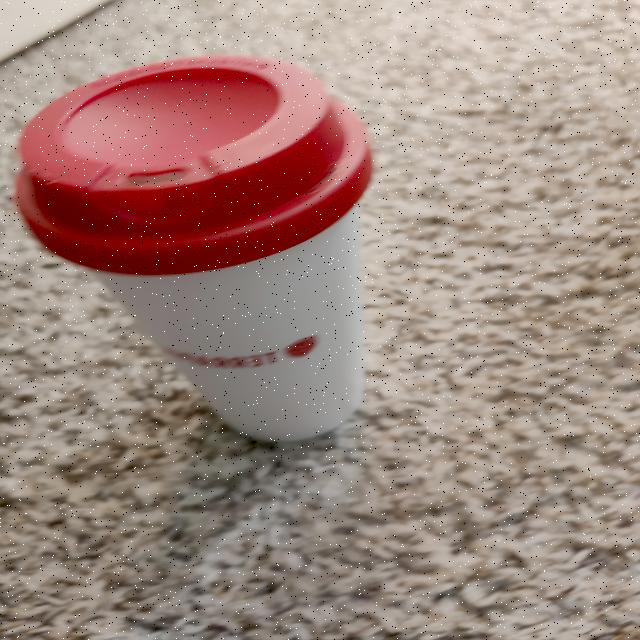mug: (12, 58, 368, 432)
